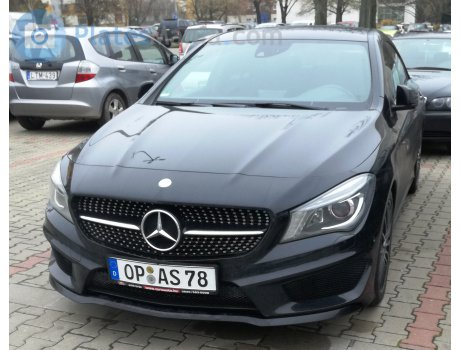License Plates: (113, 256, 213, 291)
